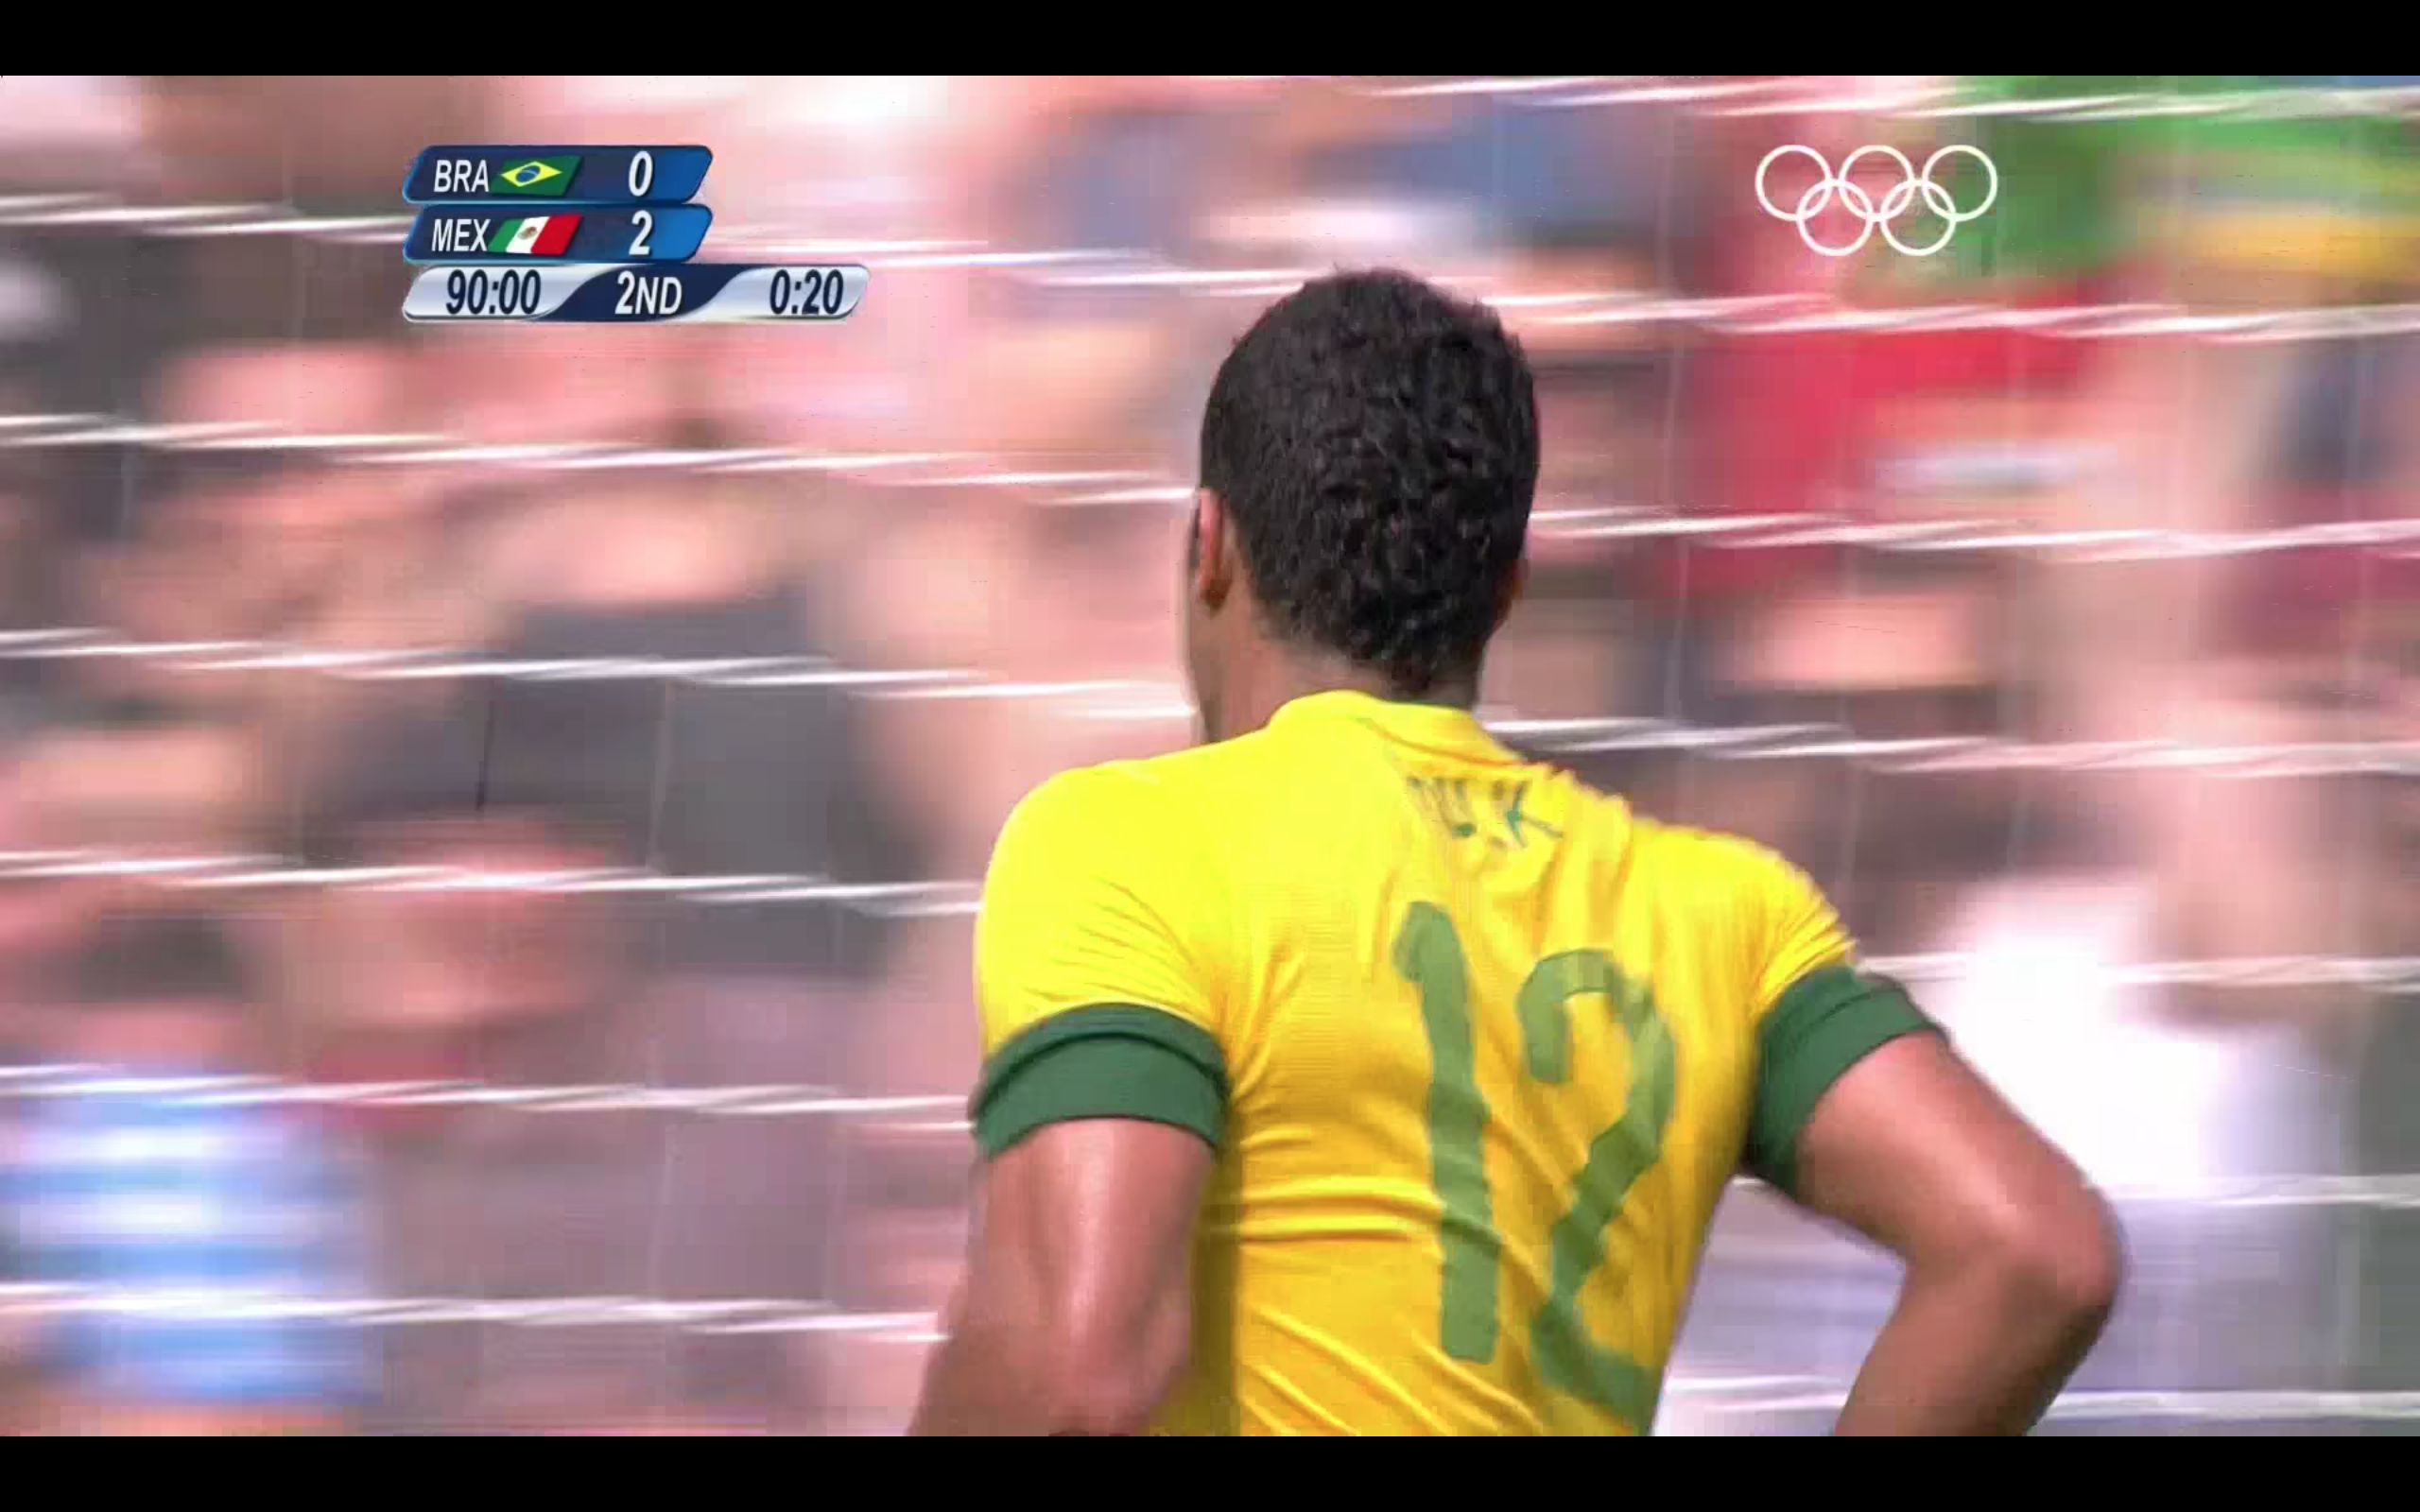soccer player: (889, 255, 2141, 1435)
